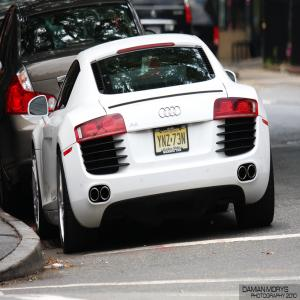Vehicle-registration-plate: (163, 128, 189, 156)
